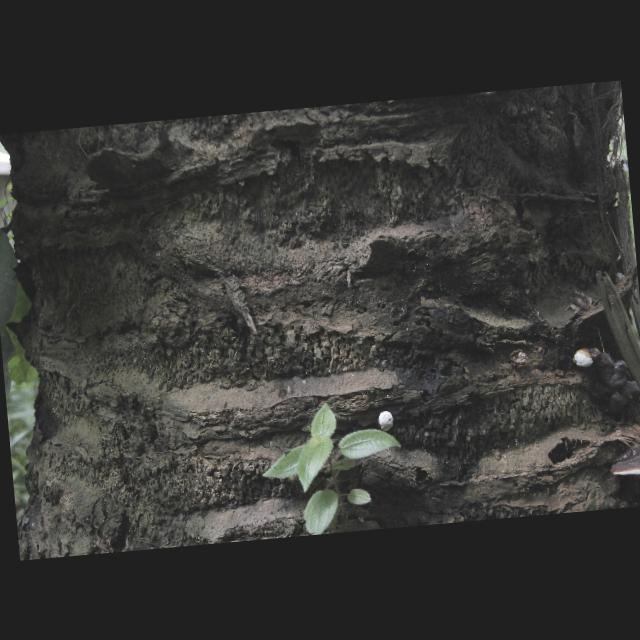ganoderma: (593, 343, 640, 414), (607, 442, 640, 479)
primordium: (572, 348, 595, 370), (379, 411, 396, 433)
